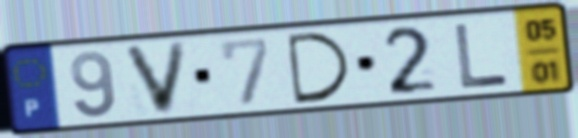2: (381, 24, 441, 97)
7: (215, 35, 273, 109)
9: (67, 48, 118, 120)
D: (282, 29, 356, 107)
L: (451, 21, 513, 90)
V: (119, 39, 192, 118)
